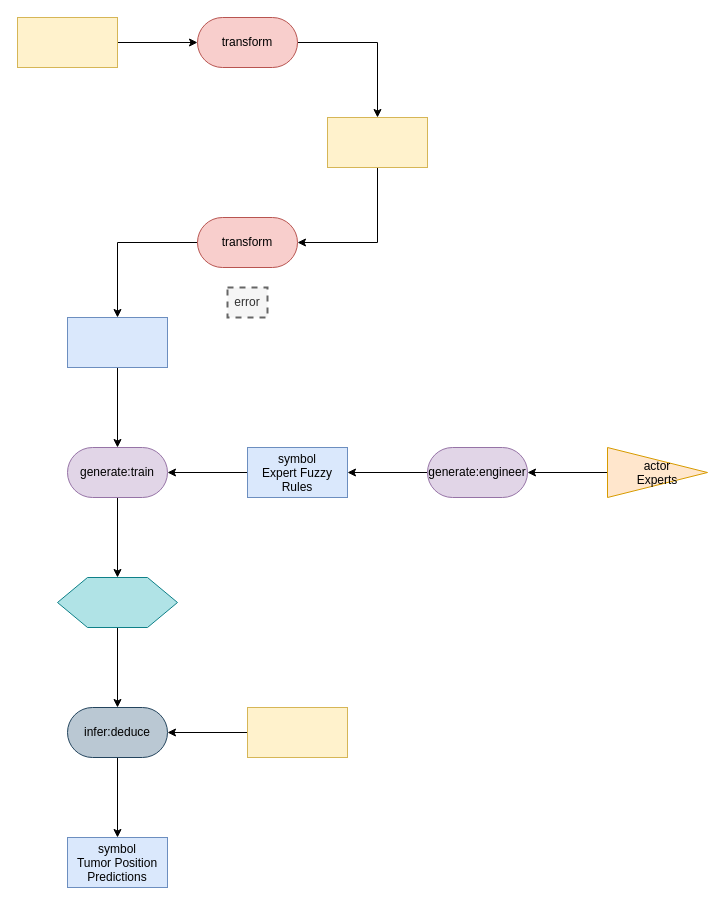
This 725x905 diagram has some shape labels left out. The centre of each missing label's shape, as x and y in pixels:
"data Extracted Features" belongs at point (377, 142).
"data Patient Respiratory Signals" belongs at point (297, 732).
"data Respiratory Signals" belongs at point (67, 42).
"model:hybrid FDL" belongs at point (117, 602).
"symbol Patient Group Clusters" belongs at point (117, 342).
